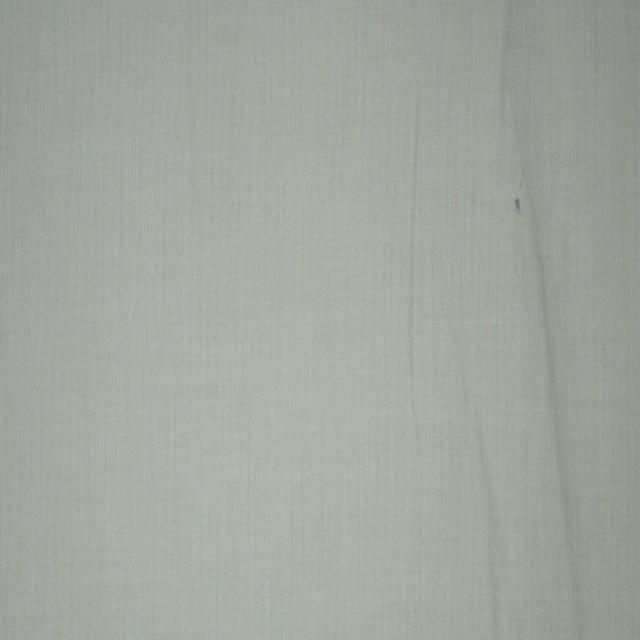dirty: (515, 197, 521, 212), (520, 183, 524, 191)
